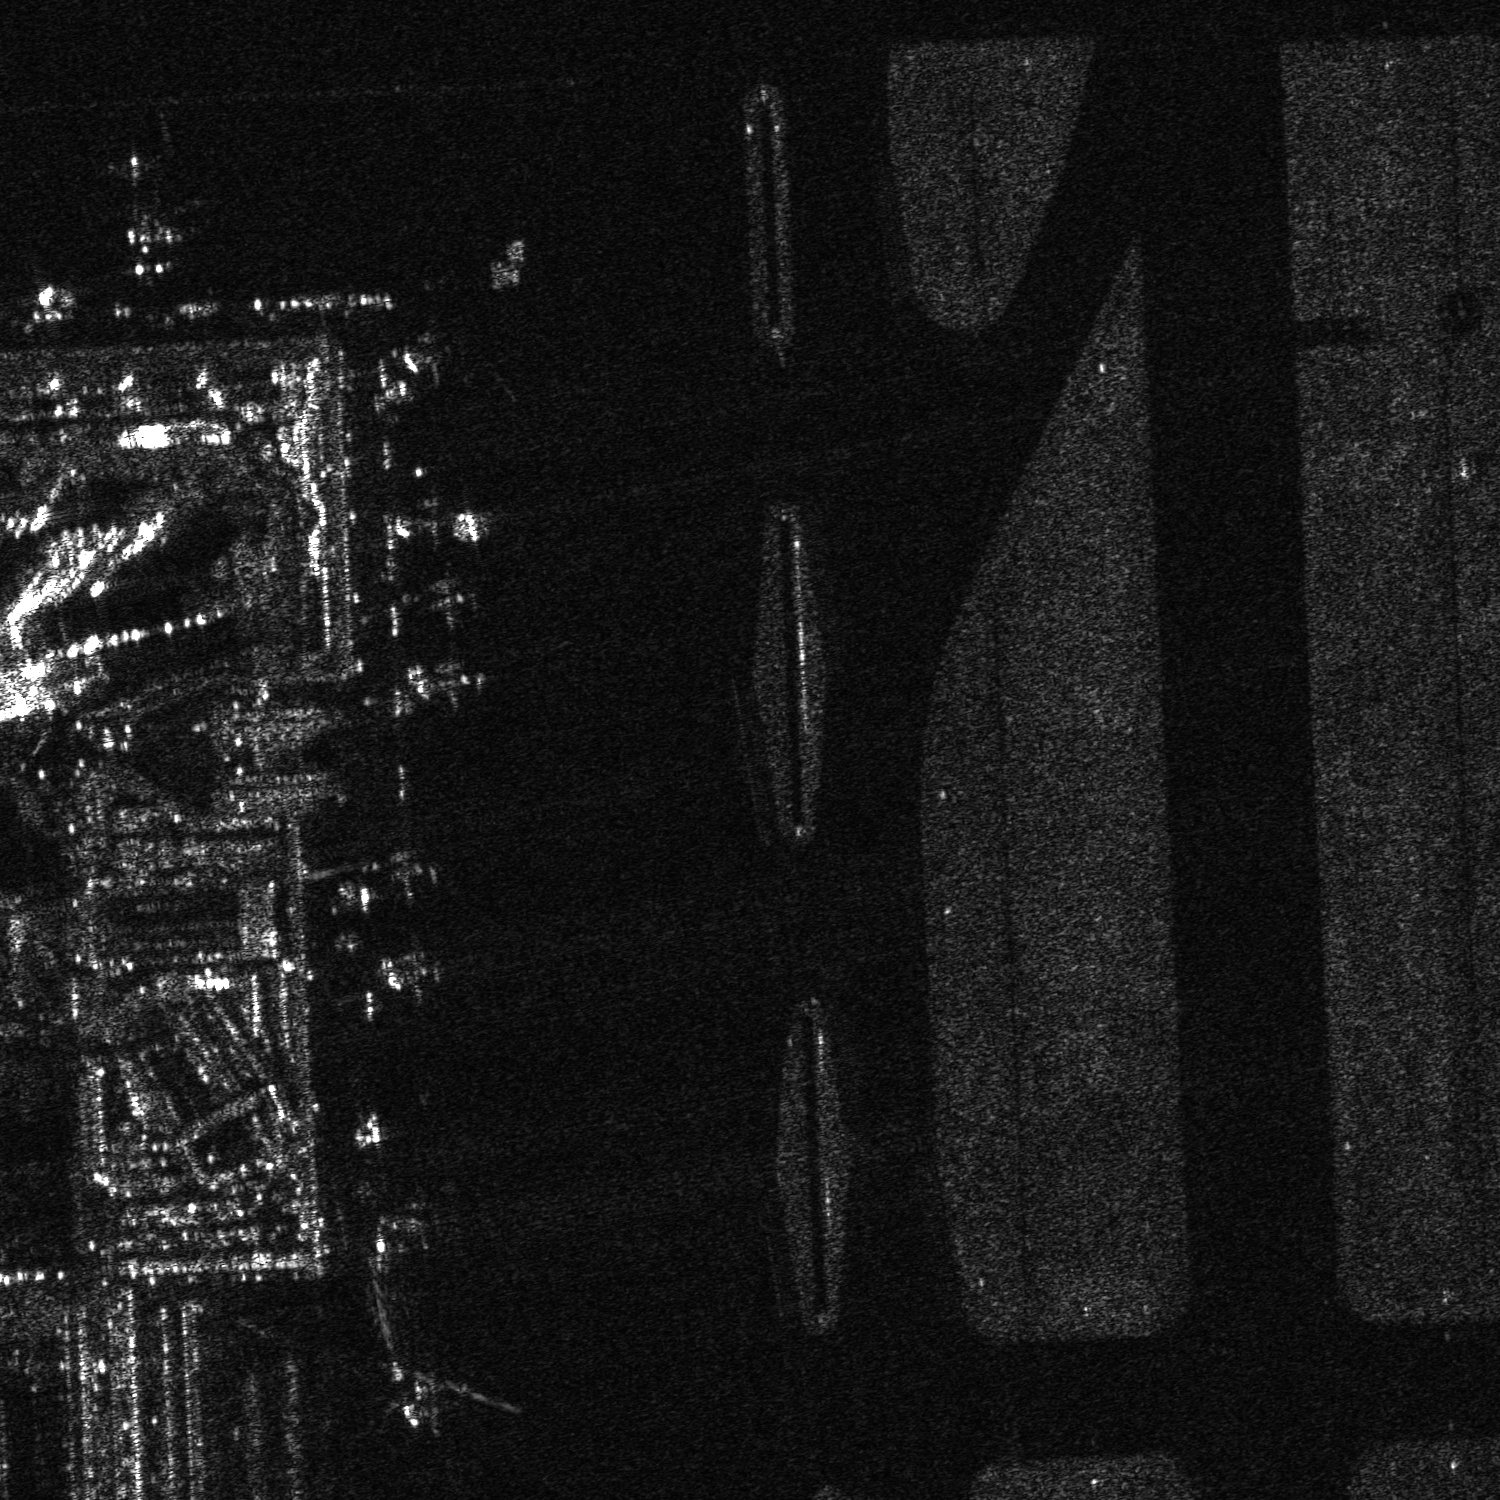A220: (385, 1348, 468, 1444), (391, 478, 497, 548), (397, 650, 497, 717), (396, 573, 495, 637), (352, 843, 448, 909), (372, 931, 451, 1010)
Boeing787: (110, 152, 191, 286)
